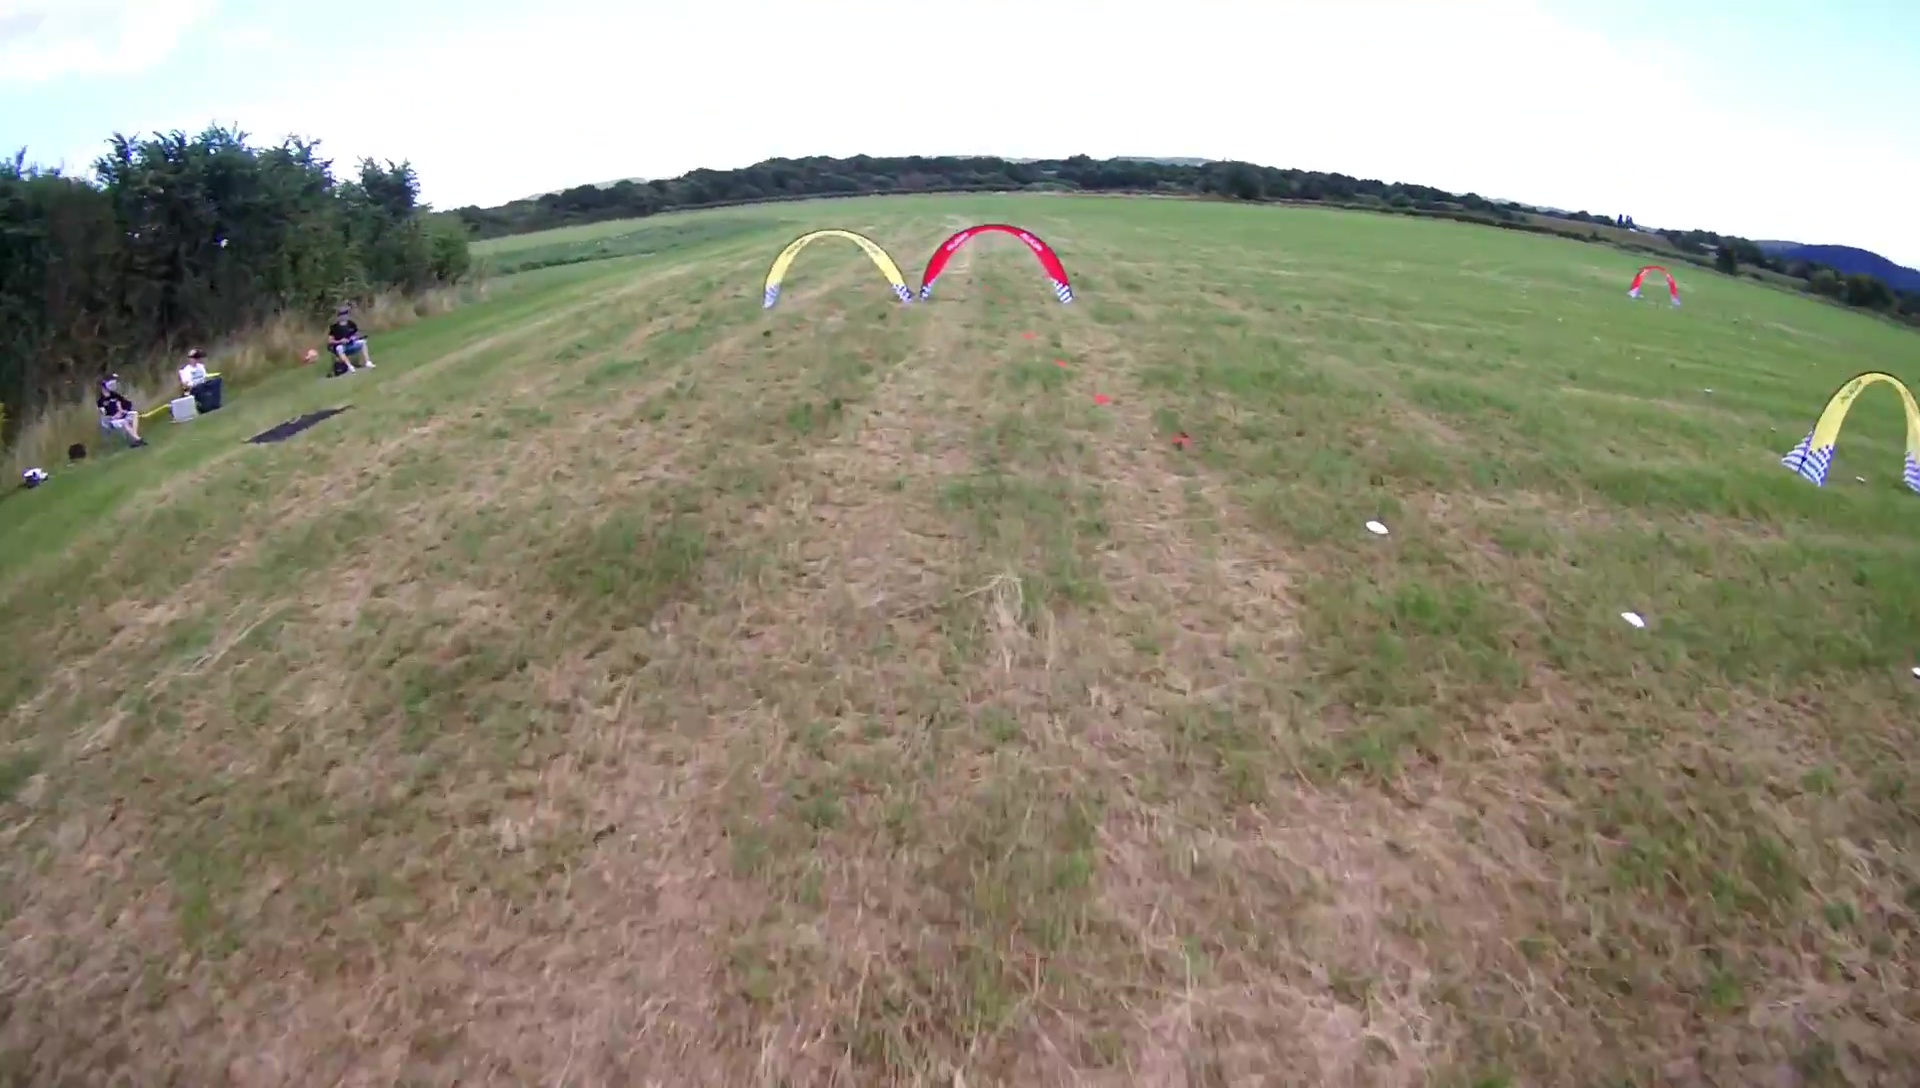gate: (1780, 369, 1920, 484), (918, 223, 1079, 302), (760, 228, 915, 310), (1623, 264, 1684, 306)
